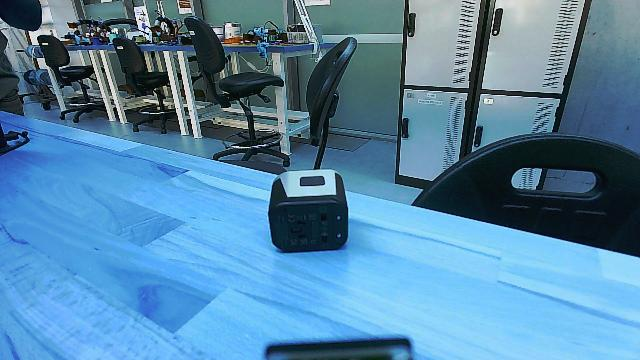adapter: (254, 166, 354, 254)
